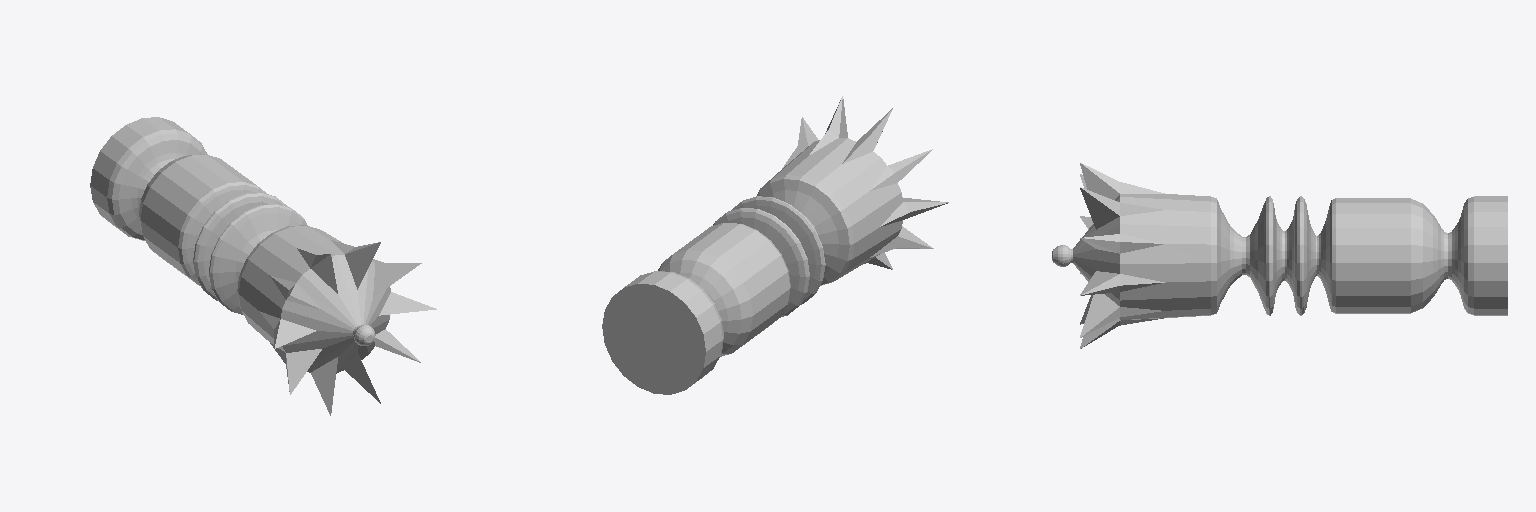
3 views of the same model, side by side, from view 1: azimuth 30°, elevation 25°; view 2: azimuth 150°, elevation 25°; view 3: azimuth 270°, elevation 25° (orthographic).
Visible parts, largest first — view 1: Queen_White_Pieces1_0_Queen_White_Pieces1_0.002; view 2: Queen_White_Pieces1_0_Queen_White_Pieces1_0.002; view 3: Queen_White_Pieces1_0_Queen_White_Pieces1_0.002.
Part boxes in pixels (x1,y1,x2,y2): Queen_White_Pieces1_0_Queen_White_Pieces1_0.002: (90, 117, 436, 415); Queen_White_Pieces1_0_Queen_White_Pieces1_0.002: (602, 96, 948, 394); Queen_White_Pieces1_0_Queen_White_Pieces1_0.002: (1052, 163, 1507, 348).
Size of the model in its own units: 0.0252 by 0.024 by 0.0607.